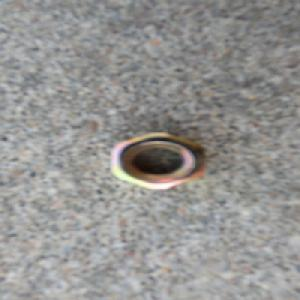Nut: (107, 131, 207, 192)
